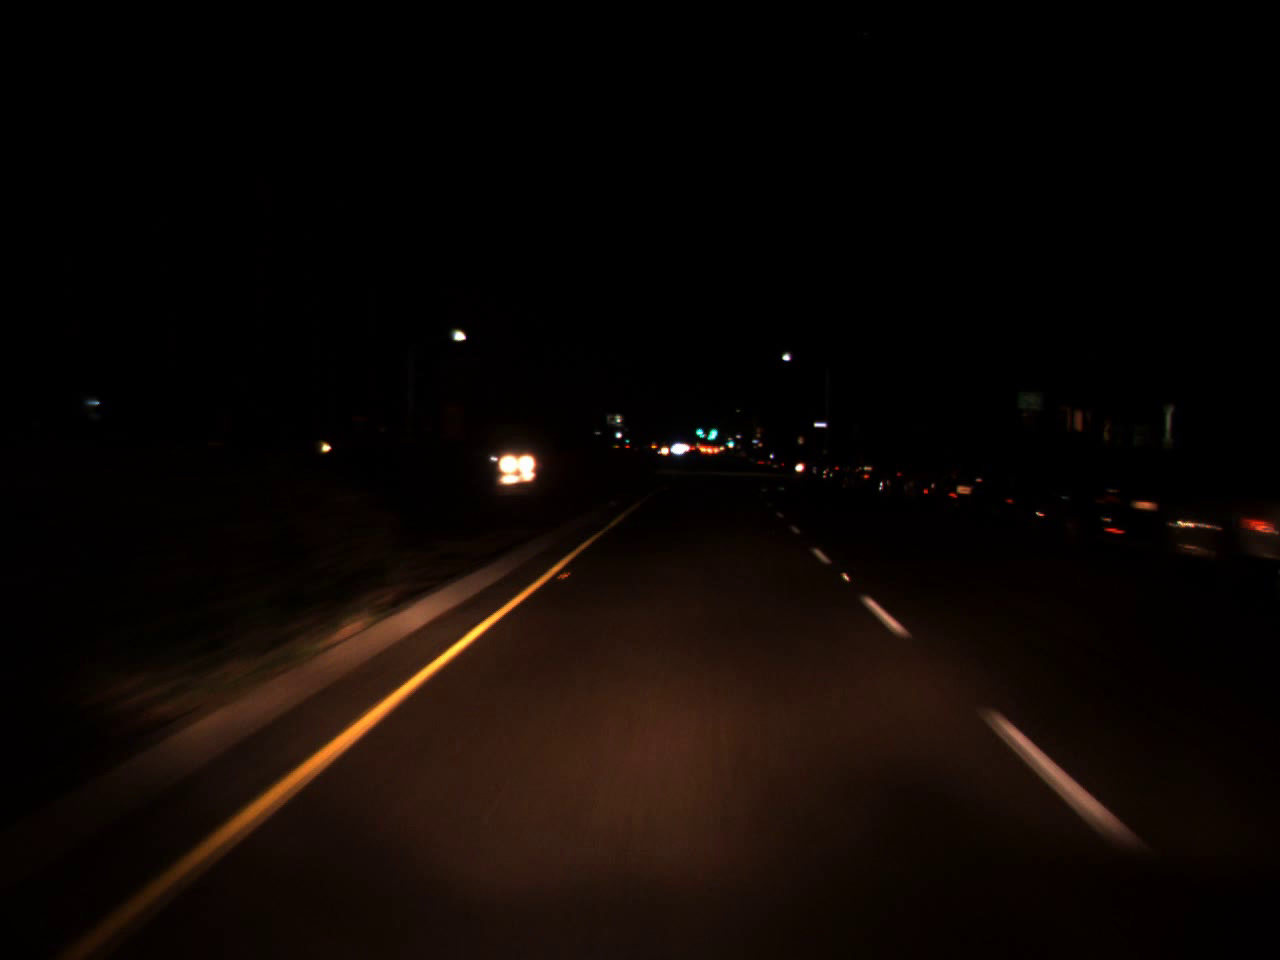go: (703, 416, 719, 443), (621, 433, 630, 445), (725, 436, 734, 448), (694, 425, 701, 437)
